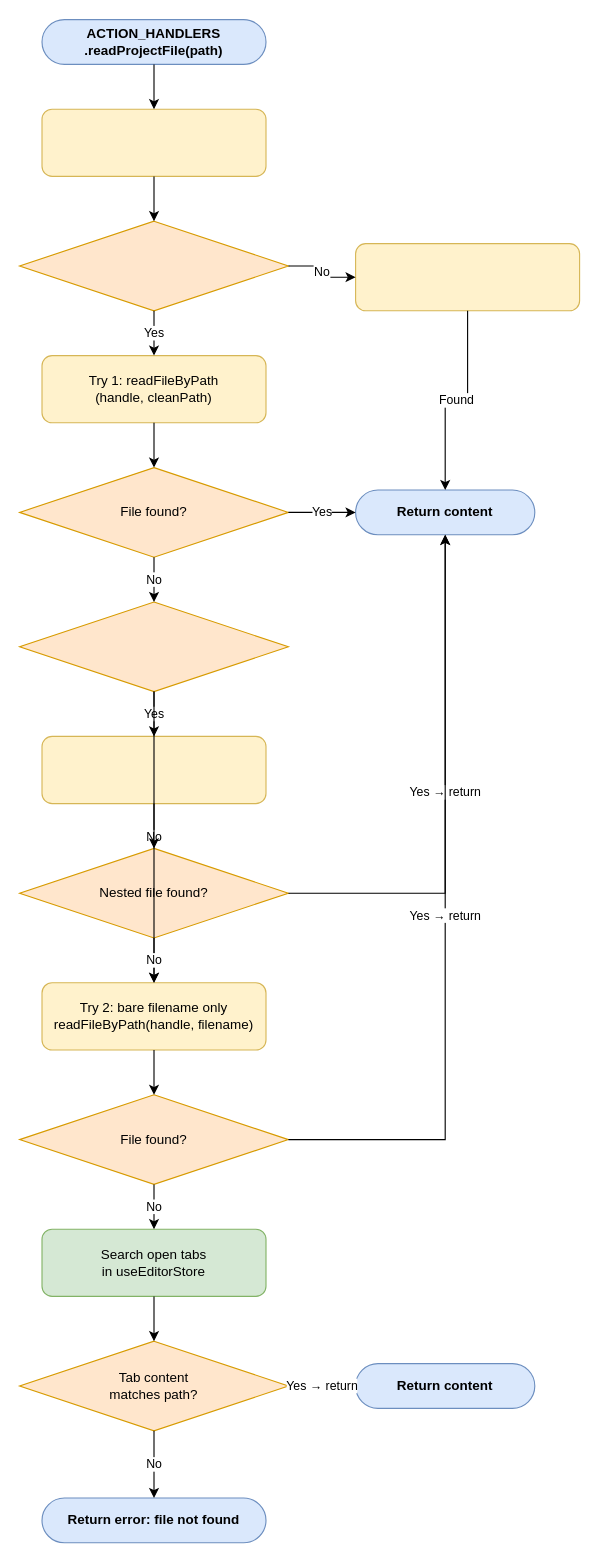
This 599x1562 diagram has some shape labels left out. The shapes that lost their labels are listed below. From the top down, each one's box as (x1, y1, x2, y2) in pixels, then its label:
(41, 108, 266, 176): Normalize: strip 'Arcwrite/' prefix if present (legacy)
(18, 220, 288, 311): cleanPath starts with 'projects/books/'?
(354, 242, 580, 311): No — try Arcwrite-relative readFileByPath(handle, cleanPath)
(18, 601, 288, 692): Try 1.5: path ends with file extension?
(41, 735, 266, 804): Extract stem from path Try nested: books/{stem}/{file}
